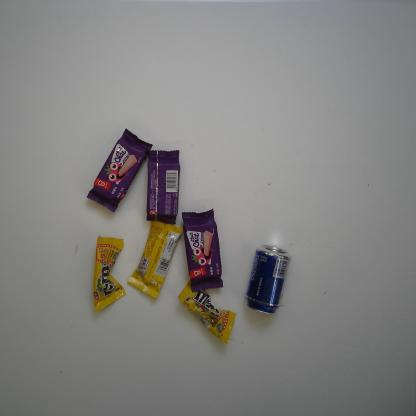Alcohol: (243, 242, 292, 317)
Chocolate: (124, 217, 185, 301), (176, 276, 238, 345), (92, 234, 127, 313)
Dessert: (83, 126, 155, 214), (180, 207, 224, 294), (142, 147, 182, 226)
